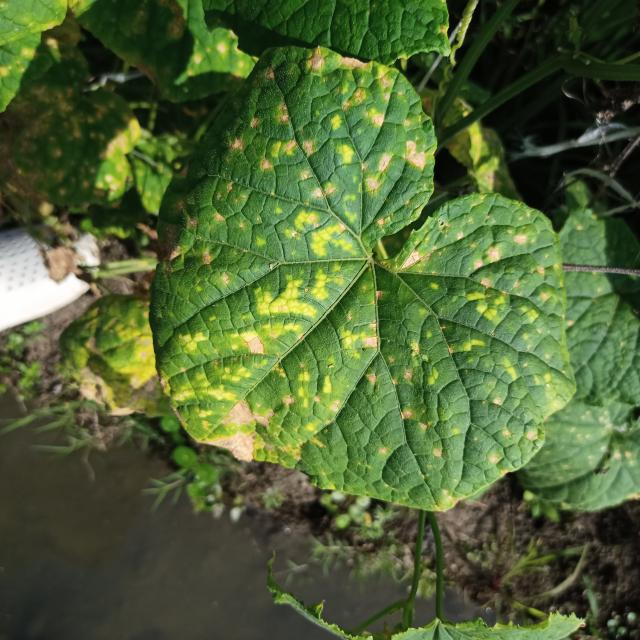disease_cucumber: (153, 48, 572, 489)
